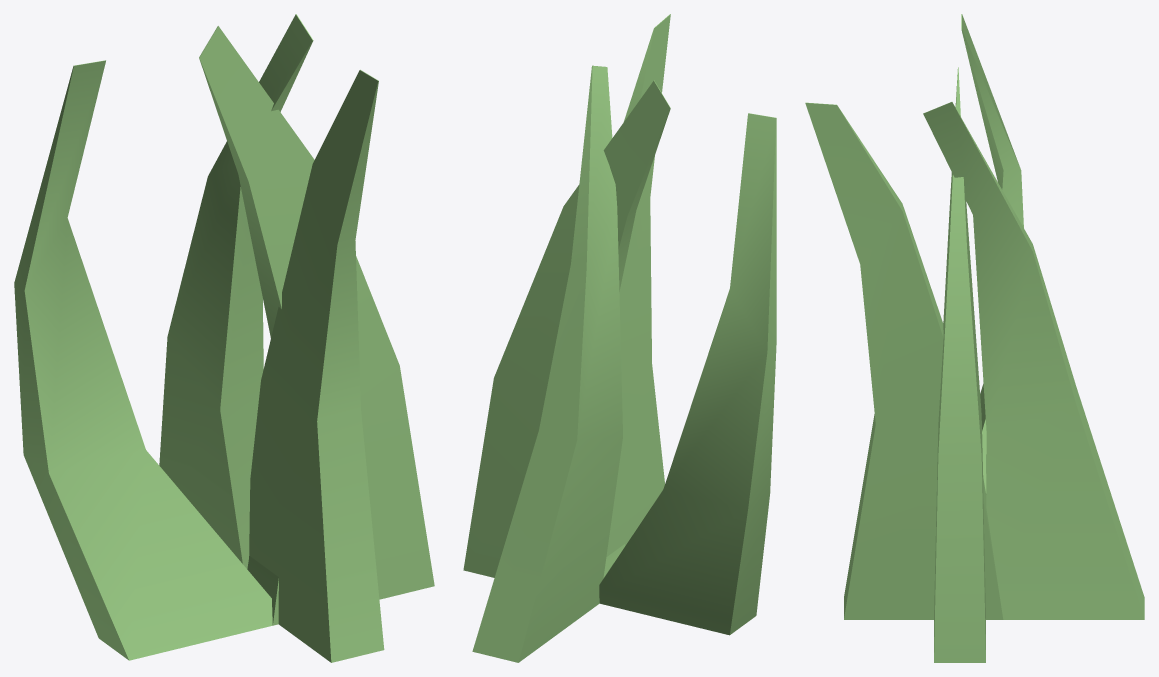
The model's file is grass5.fbx.
The picture shows the model from 3 angles, left to right: view 1: azimuth 30°, elevation 25°; view 2: azimuth 150°, elevation 25°; view 3: azimuth 270°, elevation 25°; orthographic projection. The views are drawn at different scales.
Parts seen in each view (by area): view 1: pCube54; view 2: pCube54; view 3: pCube54.
Part boxes in pixels (x1=…): pCube54: x1=14, y1=14, x2=434, y2=662; pCube54: x1=463, y1=14, x2=776, y2=662; pCube54: x1=805, y1=14, x2=1144, y2=662.
Bounding box in the file's own units: 1.7 × 2.64 × 1.59.
